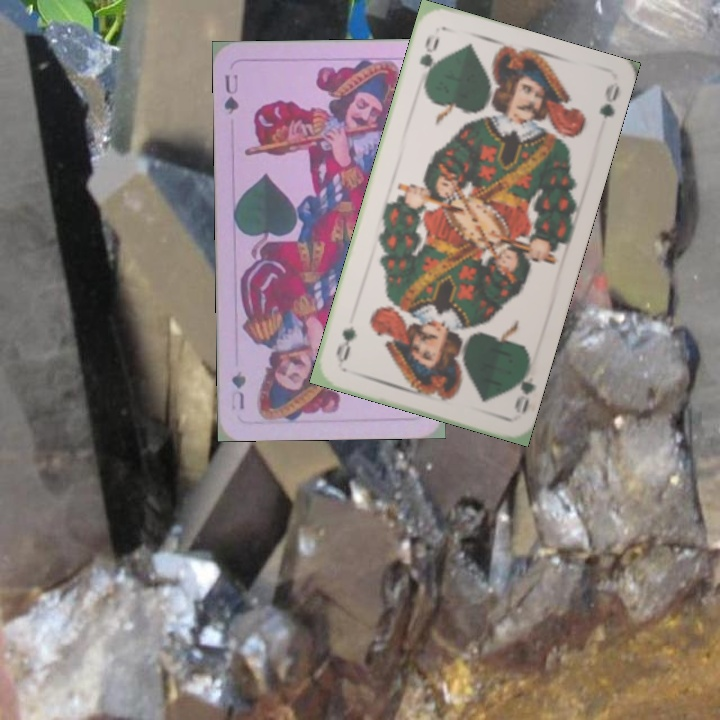GO: (507, 358, 538, 417), (415, 30, 442, 87)
GU: (220, 71, 242, 117)
